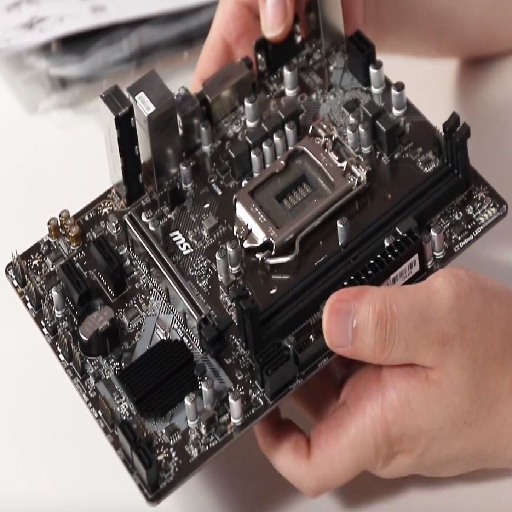CPU: (230, 120, 372, 268)
GPU: (121, 210, 220, 345)
MOTHERBOARD: (3, 21, 507, 503)
RAM: (237, 106, 477, 366)
